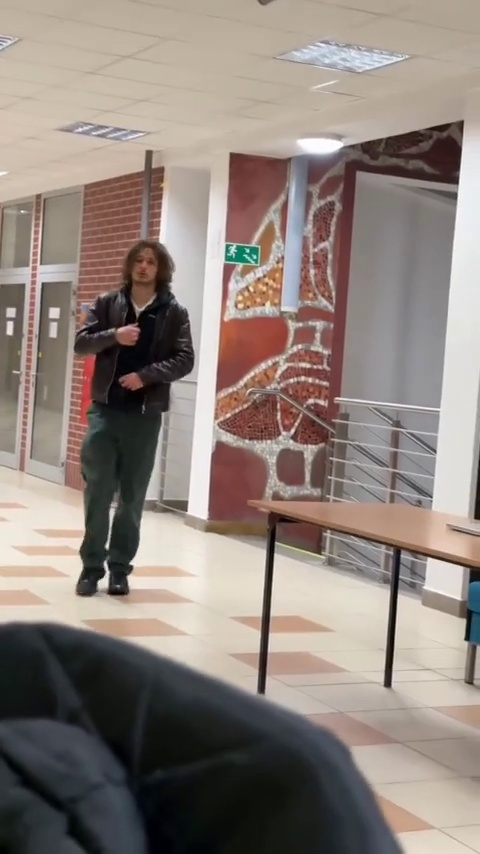no vest: (70, 235, 197, 594)
